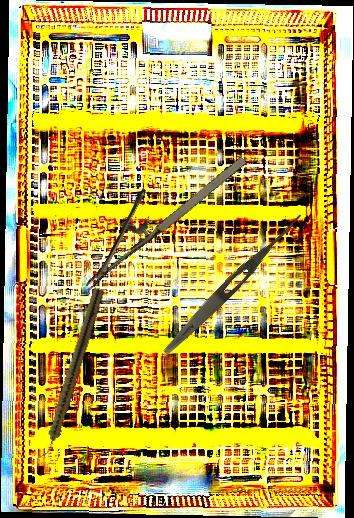Dressing Forceps: (159, 207, 307, 360)
Handpiece: (38, 285, 105, 462)
Needle Holder: (60, 129, 251, 291)
